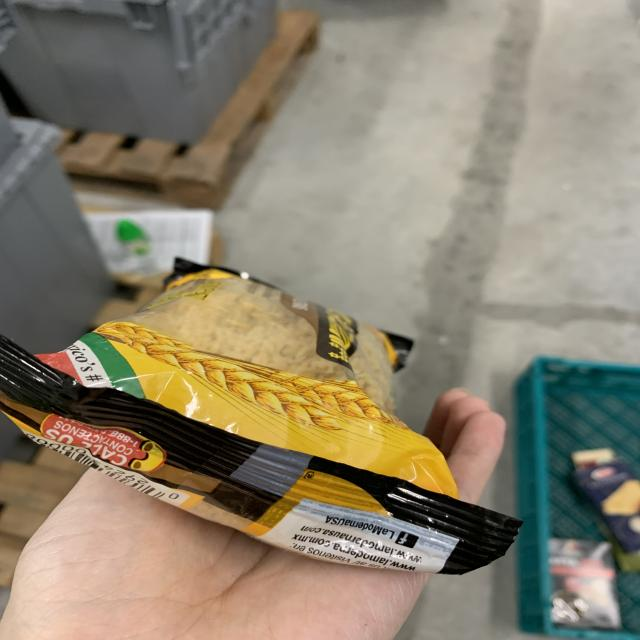object_name: (89, 261, 448, 557)
